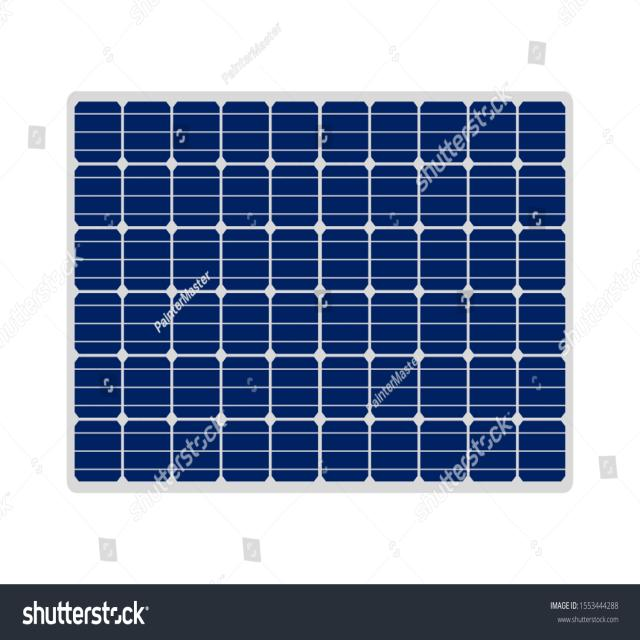clean-solar-panel: (68, 93, 571, 490)
